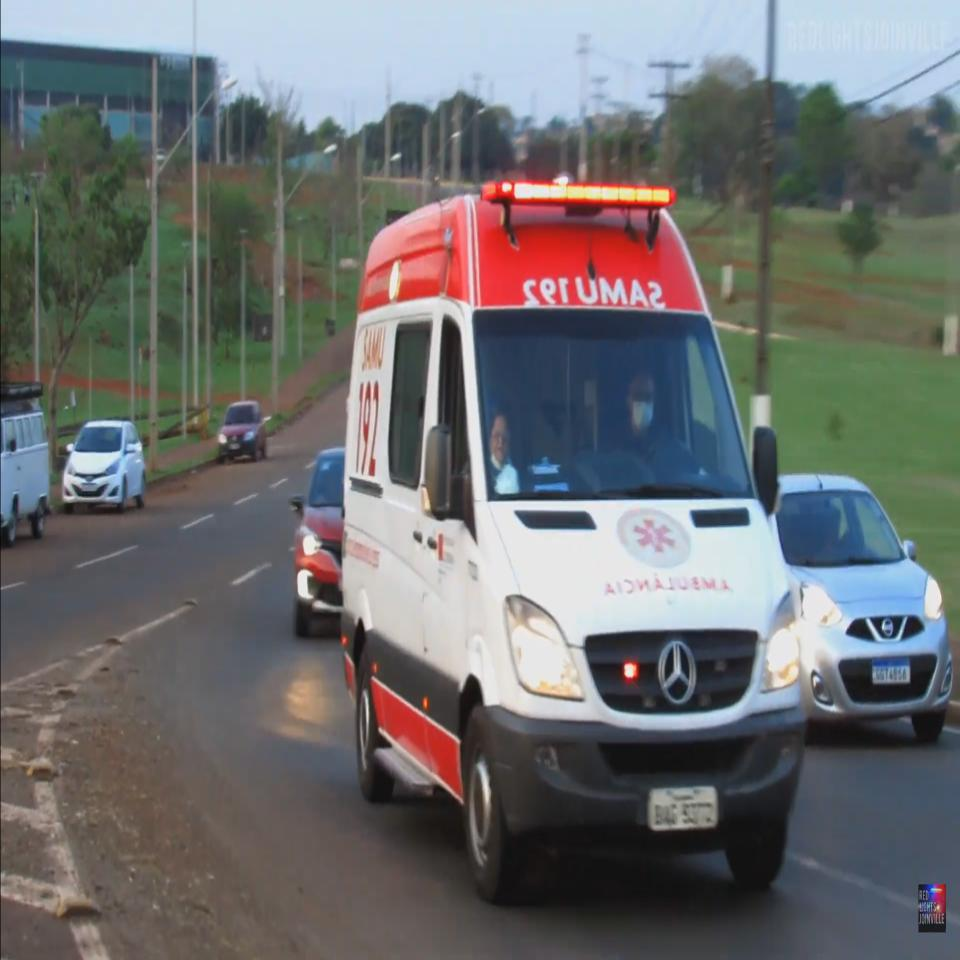bombeiro: (336, 167, 804, 904)
